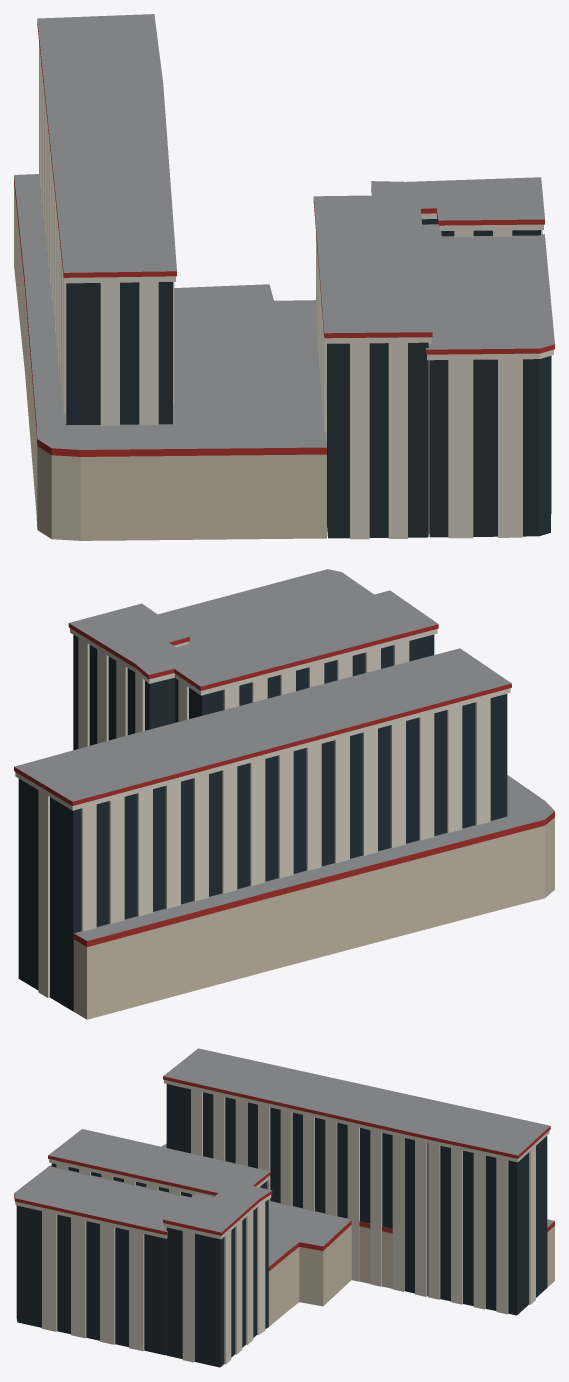
File: california_hotel_and_c_w544016661.glb
The picture shows the model from 3 angles, top to bottom: view 1: azimuth 30°, elevation 25°; view 2: azimuth 150°, elevation 25°; view 3: azimuth 270°, elevation 25°; orthographic projection. The views are drawn at different scales.
Parts seen in each view (by area): view 1: Tower_w544016661; view 2: Tower_w544016661; view 3: Tower_w544016661.
Boxes of the visible parts, x1,y1,x2,y2 form: Tower_w544016661: [14, 14, 554, 540]; Tower_w544016661: [14, 569, 554, 1019]; Tower_w544016661: [14, 1048, 554, 1367].
Size of the model in its own units: 110 by 49 by 149.
